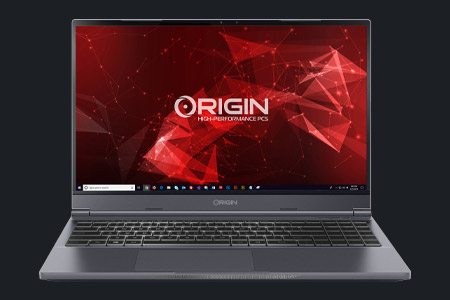laptop: (49, 8, 406, 283)
